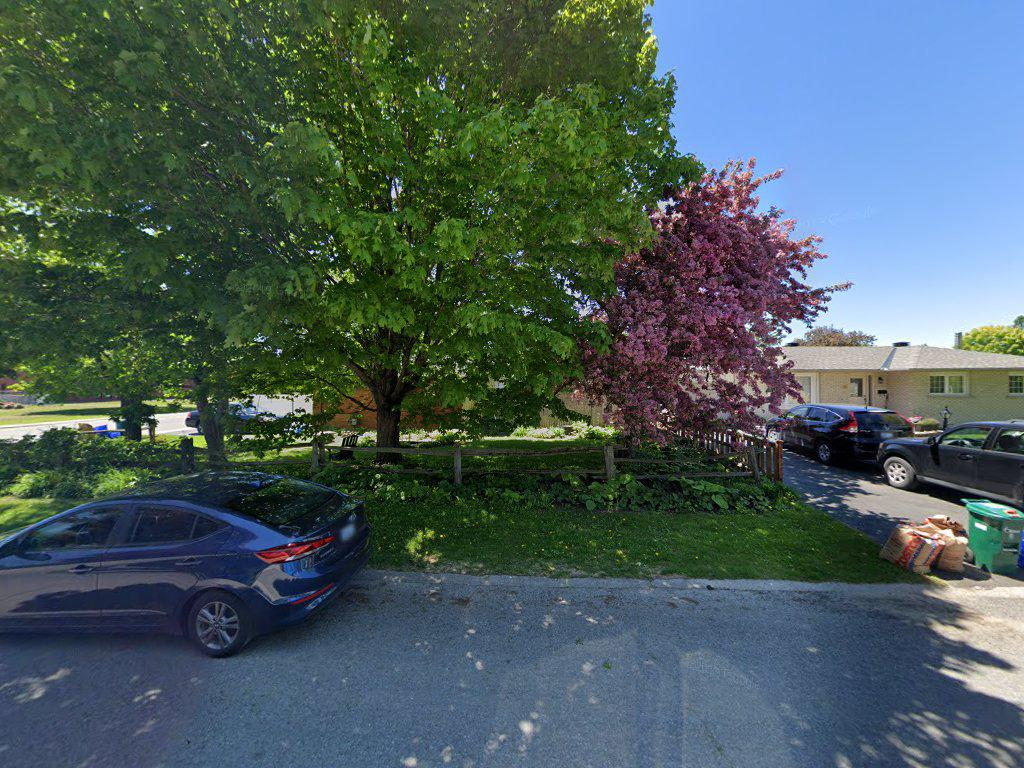trunk: (363, 363, 413, 472)
